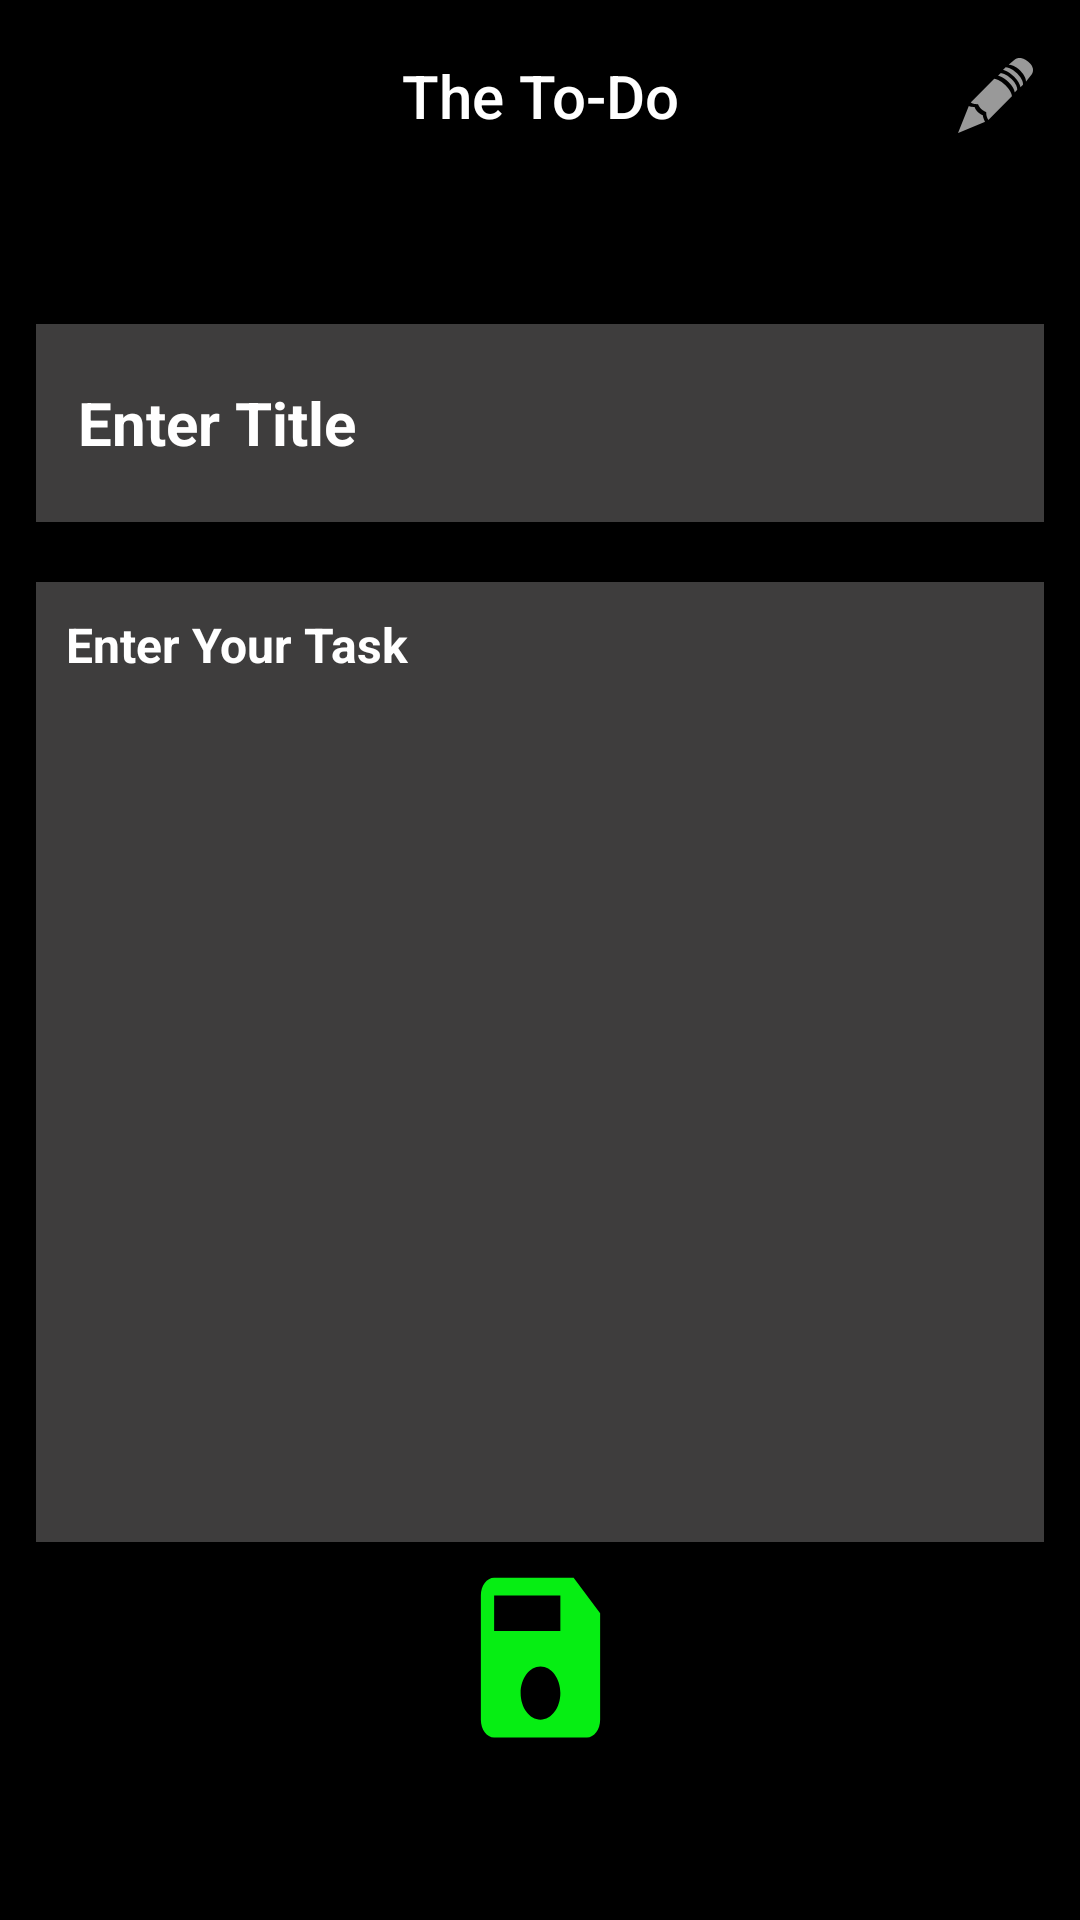

Where to tap for icons on this 1080px x 1920px app screen, as point (x, y):
save: point (540, 1657)
